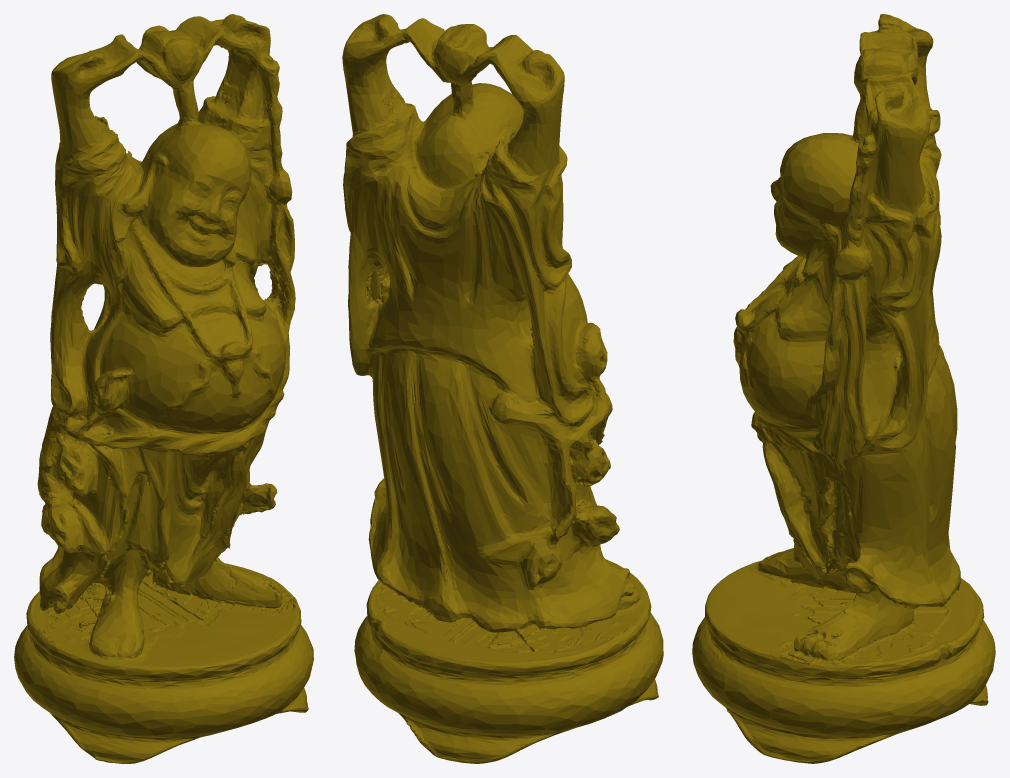
Rendered from buddha.obj.
3 renders of one model, left to right at view 1: azimuth 30°, elevation 25°; view 2: azimuth 150°, elevation 25°; view 3: azimuth 270°, elevation 25°, orthographic. The views are drawn at different scales.
Visible parts, largest first — view 1: buddha; view 2: buddha; view 3: buddha.
Boxes of the visible parts, <box> form: buddha: <box>14,14,313,763</box>; buddha: <box>342,14,663,763</box>; buddha: <box>692,14,995,763</box>.
Size of the model in its own units: 4.08 by 9.93 by 4.09.
